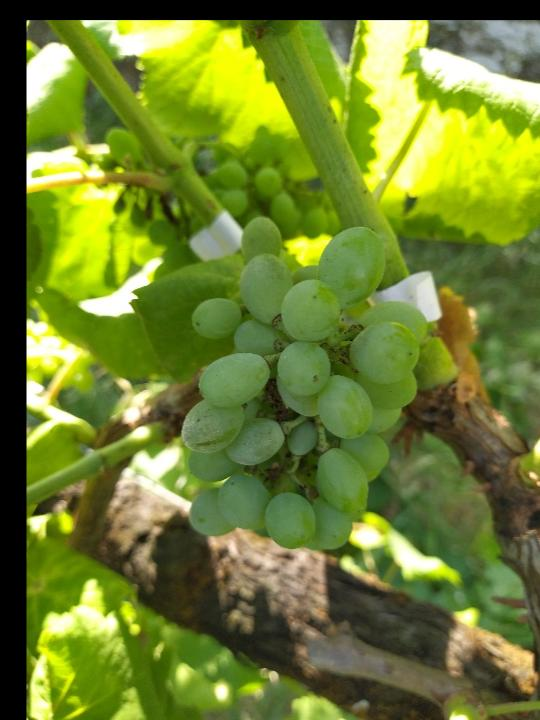grape: (179, 213, 434, 560)
